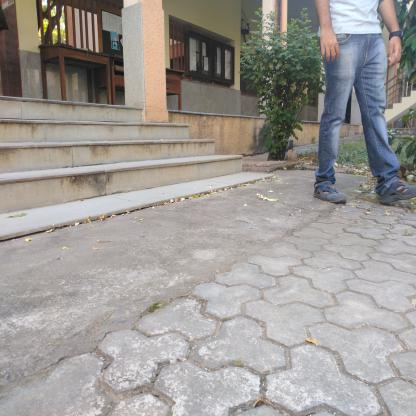stairs: (1, 109, 144, 199)
